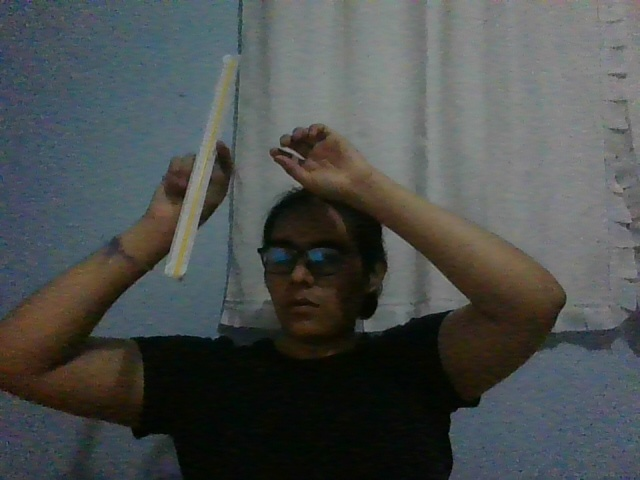regla: (163, 53, 243, 281)
